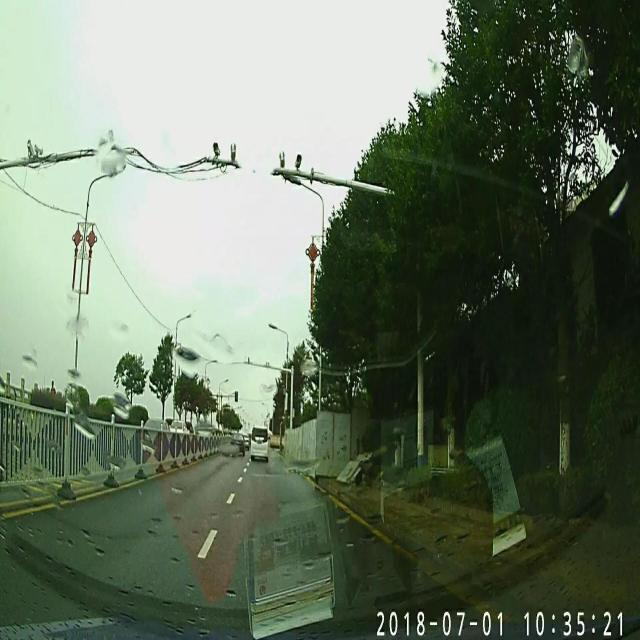car: (253, 426, 268, 459), (230, 432, 246, 454)
